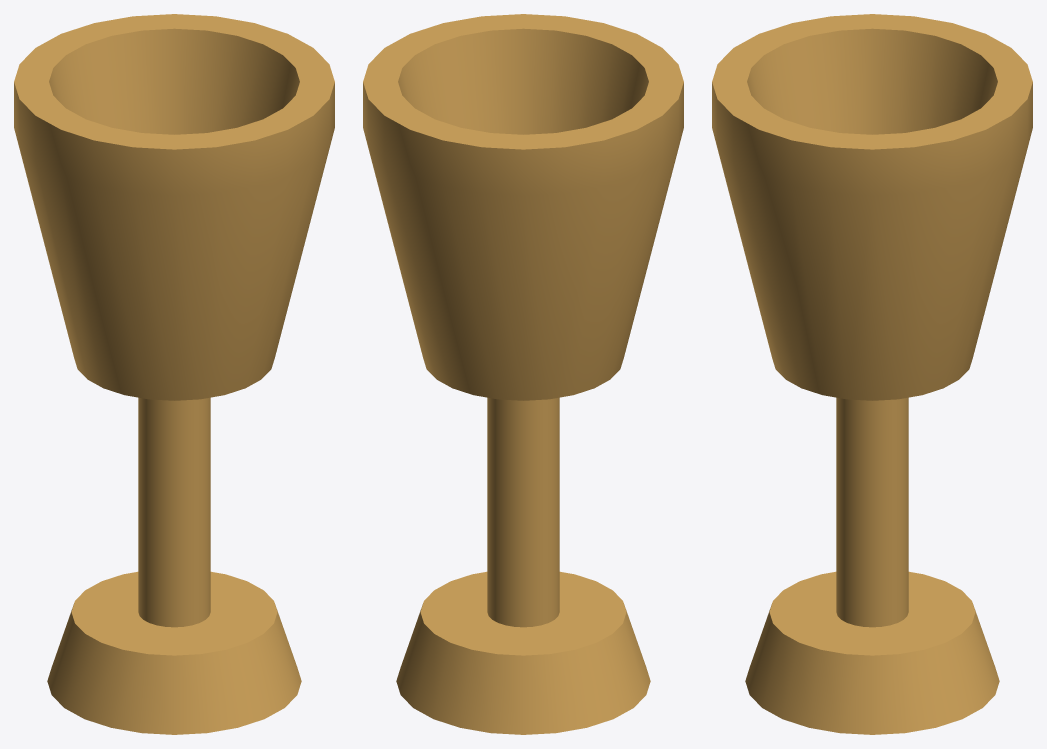
File: detailChalice.dae
The picture shows the model from 3 angles, left to right: view 1: azimuth 30°, elevation 25°; view 2: azimuth 150°, elevation 25°; view 3: azimuth 270°, elevation 25°; orthographic projection.
Parts seen in each view (by area): view 1: detailChalice; view 2: detailChalice; view 3: detailChalice.
Part boxes in pixels (x1,y1,x2,y2): detailChalice: (14,14,334,734); detailChalice: (363,14,683,734); detailChalice: (712,14,1032,734).
Bounding box in the file's own units: 0.0968 × 0.1995 × 0.0968.
